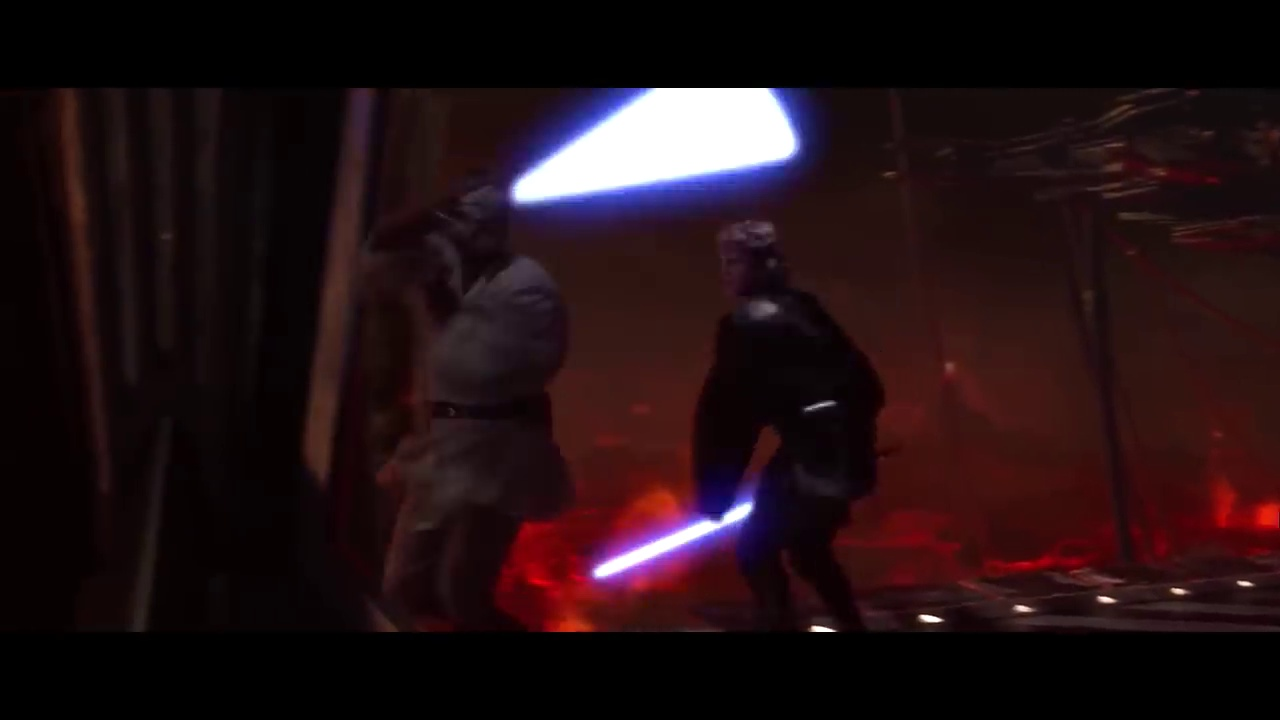lightsaber: (503, 81, 820, 227), (602, 464, 765, 590)
